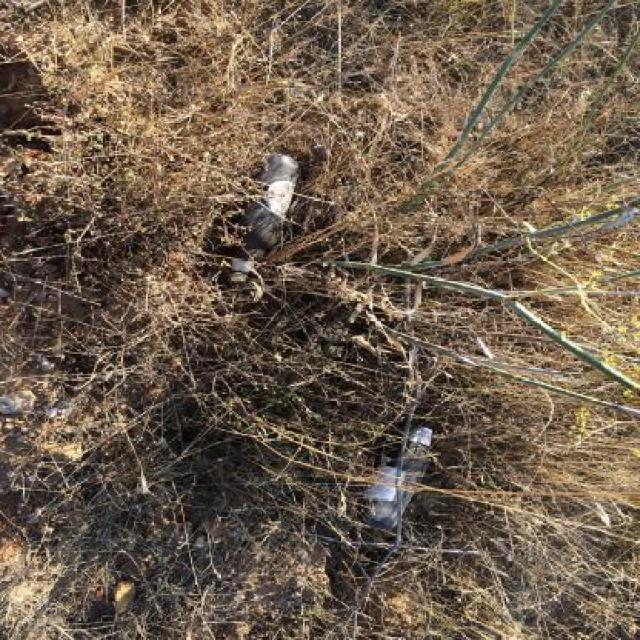glass: (227, 153, 301, 284), (355, 421, 436, 530)
